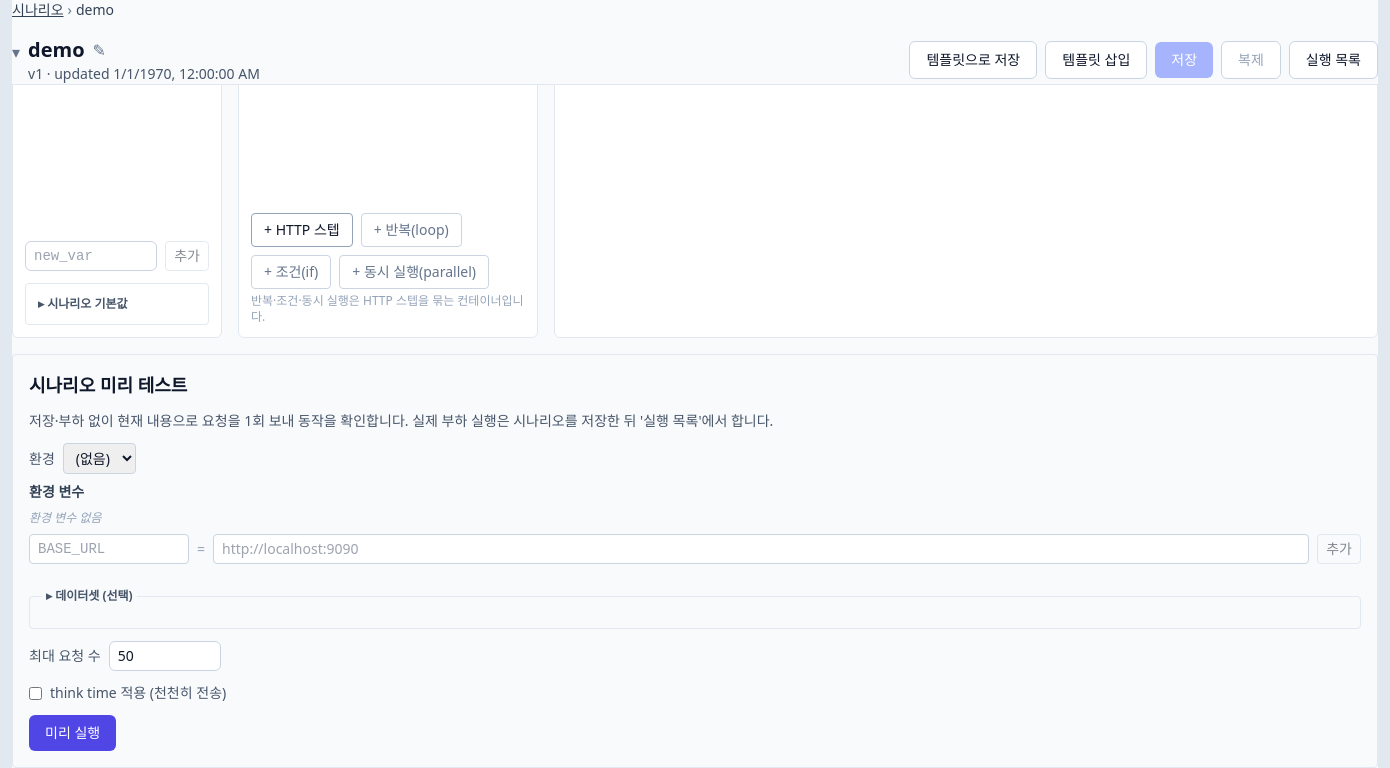
Test case: ScenarioEditPage test-run › POSTs the current buffer + env + max_requests and renders the trace
The width and height of the screenshot is (1390, 768).
(page scrolled)
Check: the button "저장" is shown, box [1155,42,1213,78]
Click the button "미리 실행": (73, 733) [29,715,116,751]
(page scrolled)
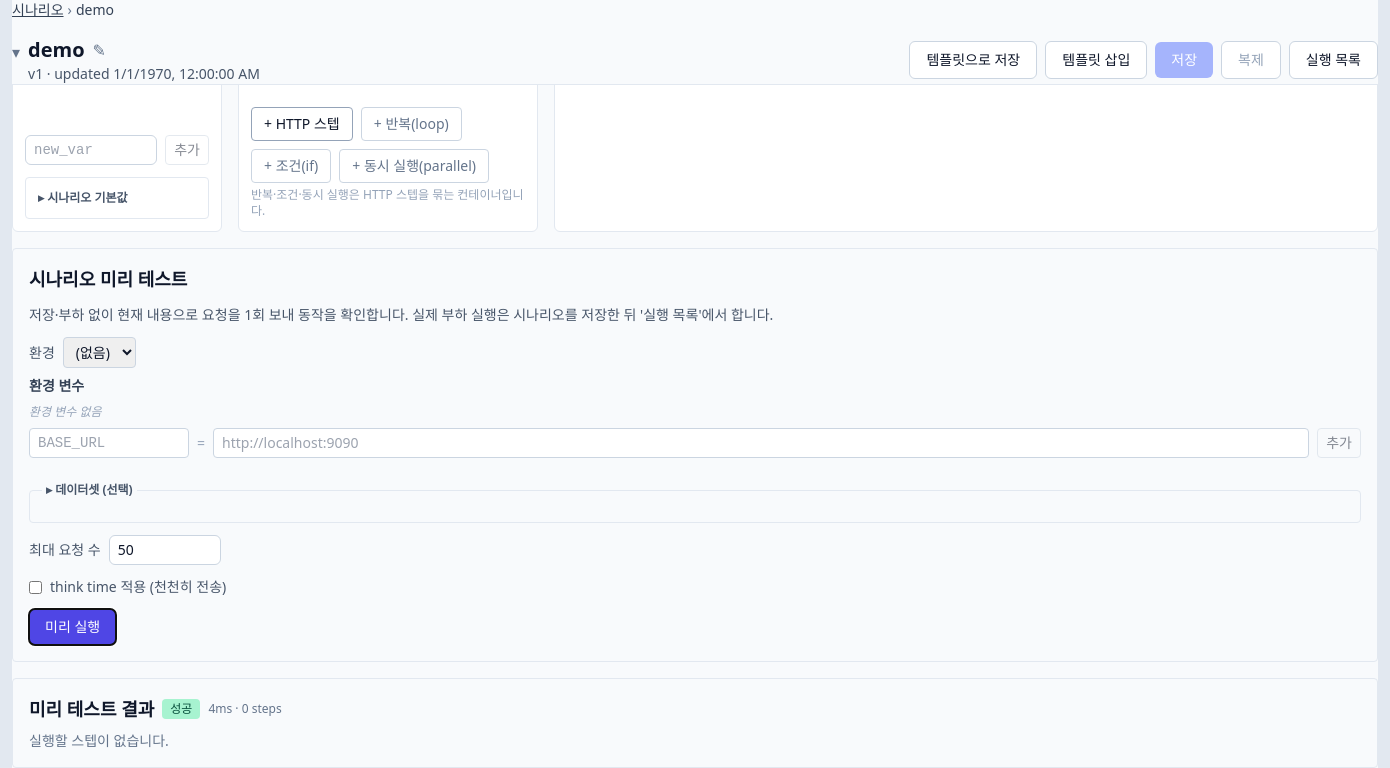
Check: the number of buttons "미리 실행" is 1, box [29,609,116,645]
Check: the element named "미리 실행 결과" is shown, box [12,678,1378,767]
